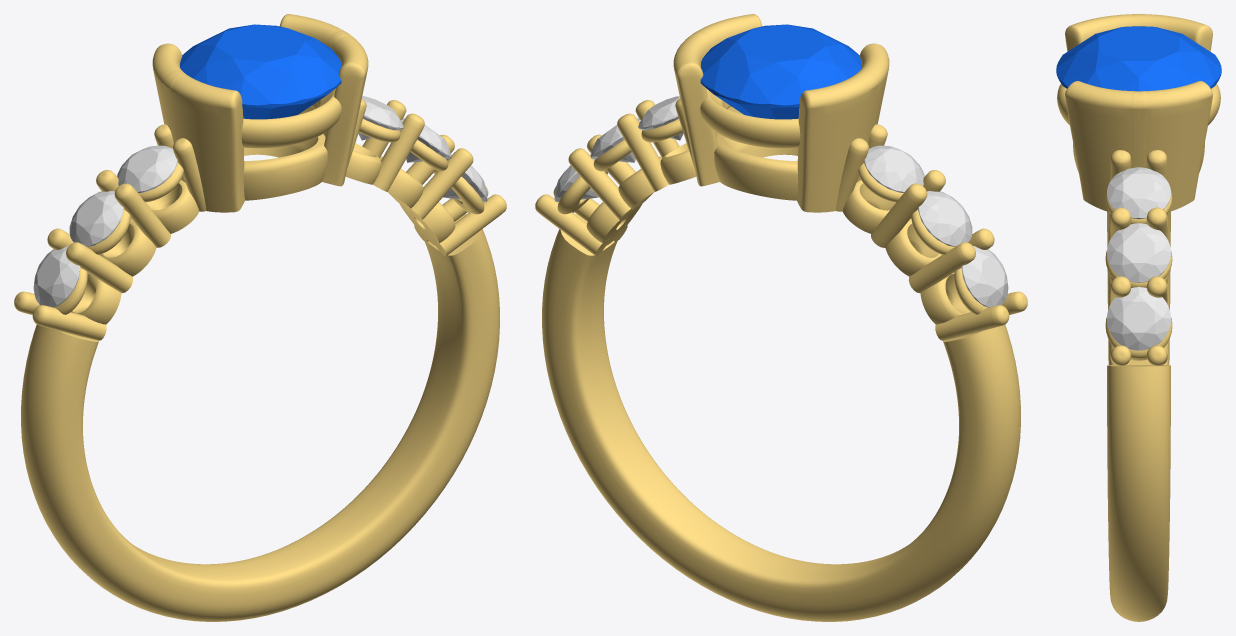
File: bluesapphire-round-yellowgold-halfmoonbezel-straightband-3stone.glb
3 views of the same model, side by side, from view 1: azimuth 30°, elevation 25°; view 2: azimuth 150°, elevation 25°; view 3: azimuth 270°, elevation 25° (orthographic). The views are drawn at different scales.
Parts seen in each view (by area): view 1: metal, stone, side.001, side, side.002, side.003, side.004; view 2: metal, stone, side.001, side, side.002, side.003, side.004; view 3: metal, stone, side.005, side.004, side.003.
Part boxes in pixels (<box>): metal: <box>14,14,506,621</box>; stone: <box>180,24,341,119</box>; side.001: <box>69,191,123,246</box>; side: <box>117,145,177,192</box>; side.002: <box>33,246,80,307</box>; side.003: <box>358,96,403,140</box>; side.004: <box>401,118,451,162</box>; metal: <box>535,14,1027,621</box>; stone: <box>700,24,861,119</box>; side.001: <box>918,191,972,246</box>; side: <box>864,145,924,192</box>; side.002: <box>961,246,1008,307</box>; side.003: <box>638,96,683,140</box>; side.004: <box>590,118,640,162</box>; metal: <box>1057,14,1220,621</box>; stone: <box>1056,26,1221,91</box>; side.005: <box>1107,287,1170,350</box>; side.004: <box>1107,223,1170,282</box>; side.003: <box>1107,167,1170,219</box>.
Bounding box in the file's own units: 20.58 × 23.81 × 6.44.
